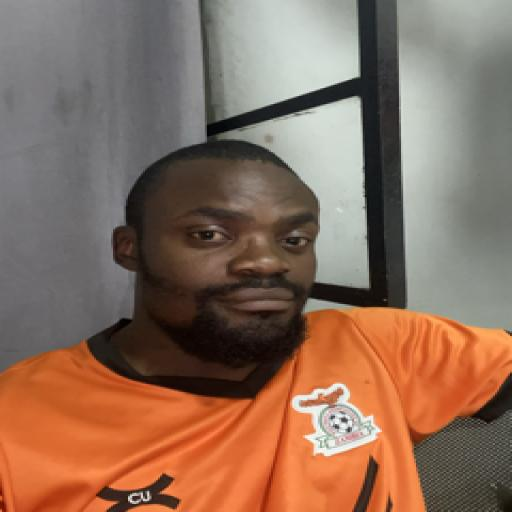JEANLUC: (108, 138, 321, 366)
